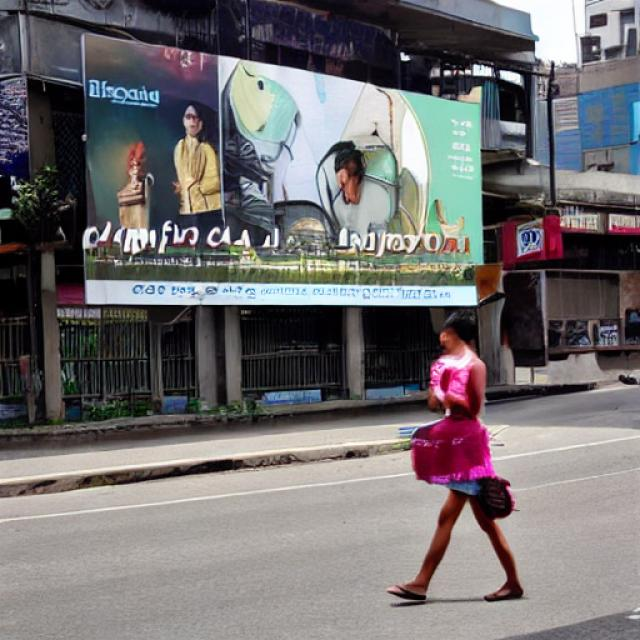Billboard: (77, 28, 484, 284)
